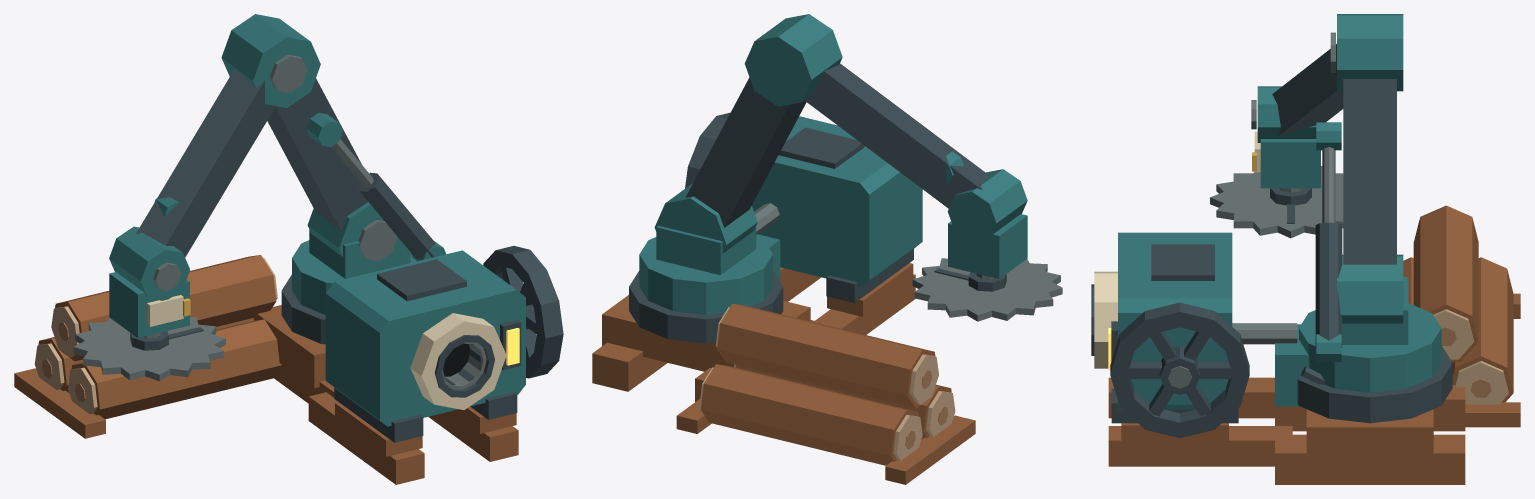
The model's file is logger_camp_saw_arm.glb.
The picture shows the model from 3 angles, left to right: view 1: azimuth 30°, elevation 25°; view 2: azimuth 150°, elevation 25°; view 3: azimuth 270°, elevation 25°; orthographic projection. The views are drawn at different scales.
Visible parts, largest first — view 1: Logger camp Timber, Harvester Iron, Harvester Teal, SharedGenerator_teal, SharedGenerator_iron, Forest cutting blade, FlywheelPivot_iron, SharedGenerator_cream, Harvester Steel, Logger camp Cut wood, Logger camp Iron, Harvester Cream (+2 smaller); view 2: Logger camp Timber, Harvester Teal, Harvester Iron, SharedGenerator_teal, Forest cutting blade, SharedGenerator_iron, Logger camp Iron, Logger camp Cut wood, FlywheelPivot_iron, Logger camp Steel, Blade hub; view 3: Logger camp Timber, Harvester Teal, Harvester Iron, FlywheelPivot_iron, SharedGenerator_teal, Logger camp Iron, Forest cutting blade, SharedGenerator_iron, Logger camp Cut wood, SharedGenerator_cream, Logger camp Teal, Harvester Steel (+3 smaller).
Boxes of the visible parts, bbox=[...] form: Logger camp Timber: bbox=[14, 255, 518, 484]; Harvester Iron: bbox=[136, 68, 435, 260]; Harvester Teal: bbox=[109, 14, 446, 337]; SharedGenerator_teal: bbox=[325, 250, 525, 426]; SharedGenerator_iron: bbox=[334, 259, 521, 442]; Forest cutting blade: bbox=[73, 317, 225, 381]; FlywheelPivot_iron: bbox=[483, 246, 563, 378]; SharedGenerator_cream: bbox=[410, 313, 506, 409]; Harvester Steel: bbox=[143, 54, 397, 338]; Logger camp Cut wood: bbox=[34, 258, 277, 414]; Logger camp Iron: bbox=[281, 274, 325, 344]; Harvester Cream: bbox=[147, 295, 183, 326]; Logger camp Timber: bbox=[592, 263, 975, 484]; Harvester Teal: bbox=[639, 14, 1027, 314]; Harvester Iron: bbox=[685, 63, 988, 227]; SharedGenerator_teal: bbox=[752, 116, 922, 286]; Forest cutting blade: bbox=[912, 258, 1062, 321]; SharedGenerator_iron: bbox=[779, 127, 913, 302]; Logger camp Iron: bbox=[629, 271, 783, 343]; Logger camp Cut wood: bbox=[699, 307, 955, 460]; FlywheelPivot_iron: bbox=[685, 112, 730, 188]; Logger camp Steel: bbox=[754, 203, 779, 234]; Blade hub: bbox=[968, 272, 1006, 291]; Logger camp Timber: bbox=[1108, 205, 1520, 484]; Harvester Teal: bbox=[1257, 14, 1441, 392]; Harvester Iron: bbox=[1272, 44, 1396, 347]; FlywheelPivot_iron: bbox=[1110, 302, 1249, 438]; SharedGenerator_teal: bbox=[1118, 232, 1232, 409]; Logger camp Iron: bbox=[1297, 346, 1452, 423]; Forest cutting blade: bbox=[1210, 166, 1343, 238]; SharedGenerator_iron: bbox=[1091, 244, 1238, 423]; Logger camp Cut wood: bbox=[1433, 309, 1508, 404]; SharedGenerator_cream: bbox=[1094, 271, 1117, 368]; Logger camp Teal: bbox=[1275, 324, 1309, 406]; Harvester Steel: bbox=[1251, 32, 1335, 222].
Size of the model in its own units: 1.53 by 1.35 by 1.36.
